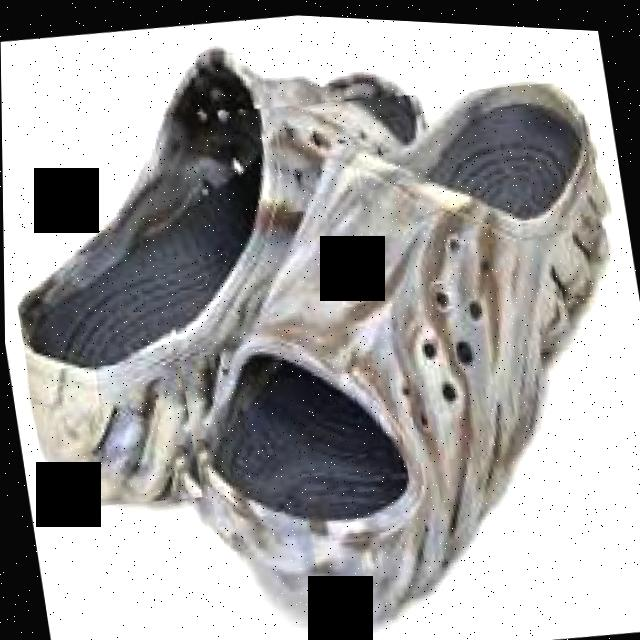shoe: (197, 77, 610, 612), (18, 53, 424, 501)
